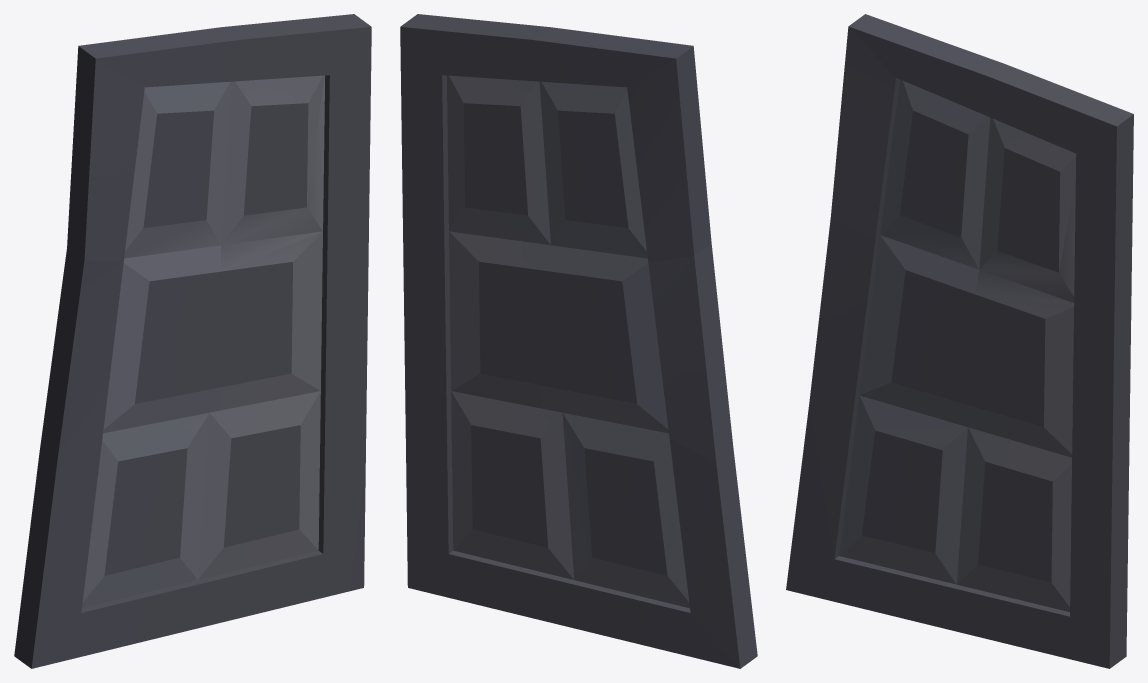
The model's file is Door_Rectangle.glb.
3 views of the same model, side by side, from view 1: azimuth 30°, elevation 25°; view 2: azimuth 150°, elevation 25°; view 3: azimuth 330°, elevation 25° (orthographic). The views are drawn at different scales.
Visible parts, largest first — view 1: Puzzle05_Door.002; view 2: Puzzle05_Door.002; view 3: Puzzle05_Door.002.
Part boxes in pixels (bbox=[...]): Puzzle05_Door.002: bbox=[14, 14, 371, 668]; Puzzle05_Door.002: bbox=[400, 14, 757, 668]; Puzzle05_Door.002: bbox=[786, 14, 1133, 668].
Size of what is drawn, in the model's own units: 2.04 by 3.41 by 0.2163.
1 material, 1 textured.
